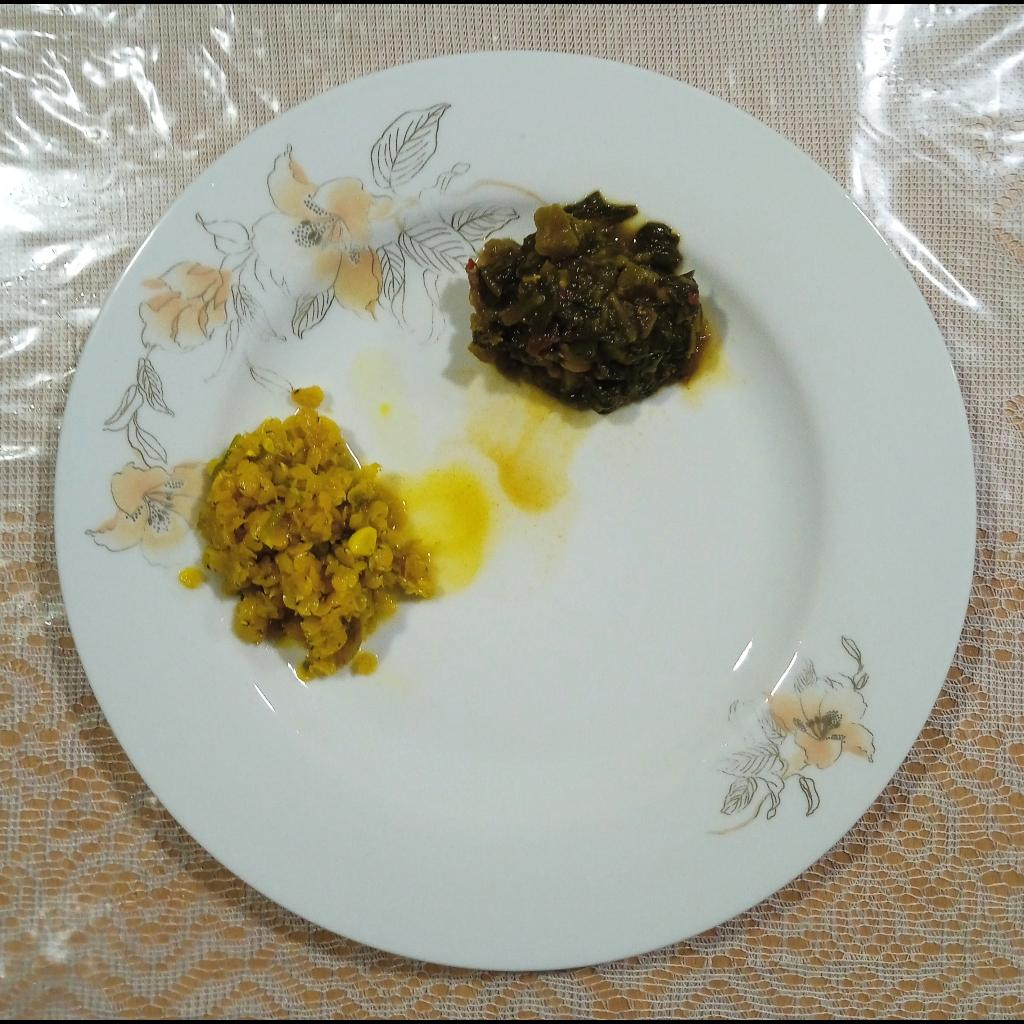daal: (193, 382, 445, 680)
shak: (463, 191, 707, 419)
